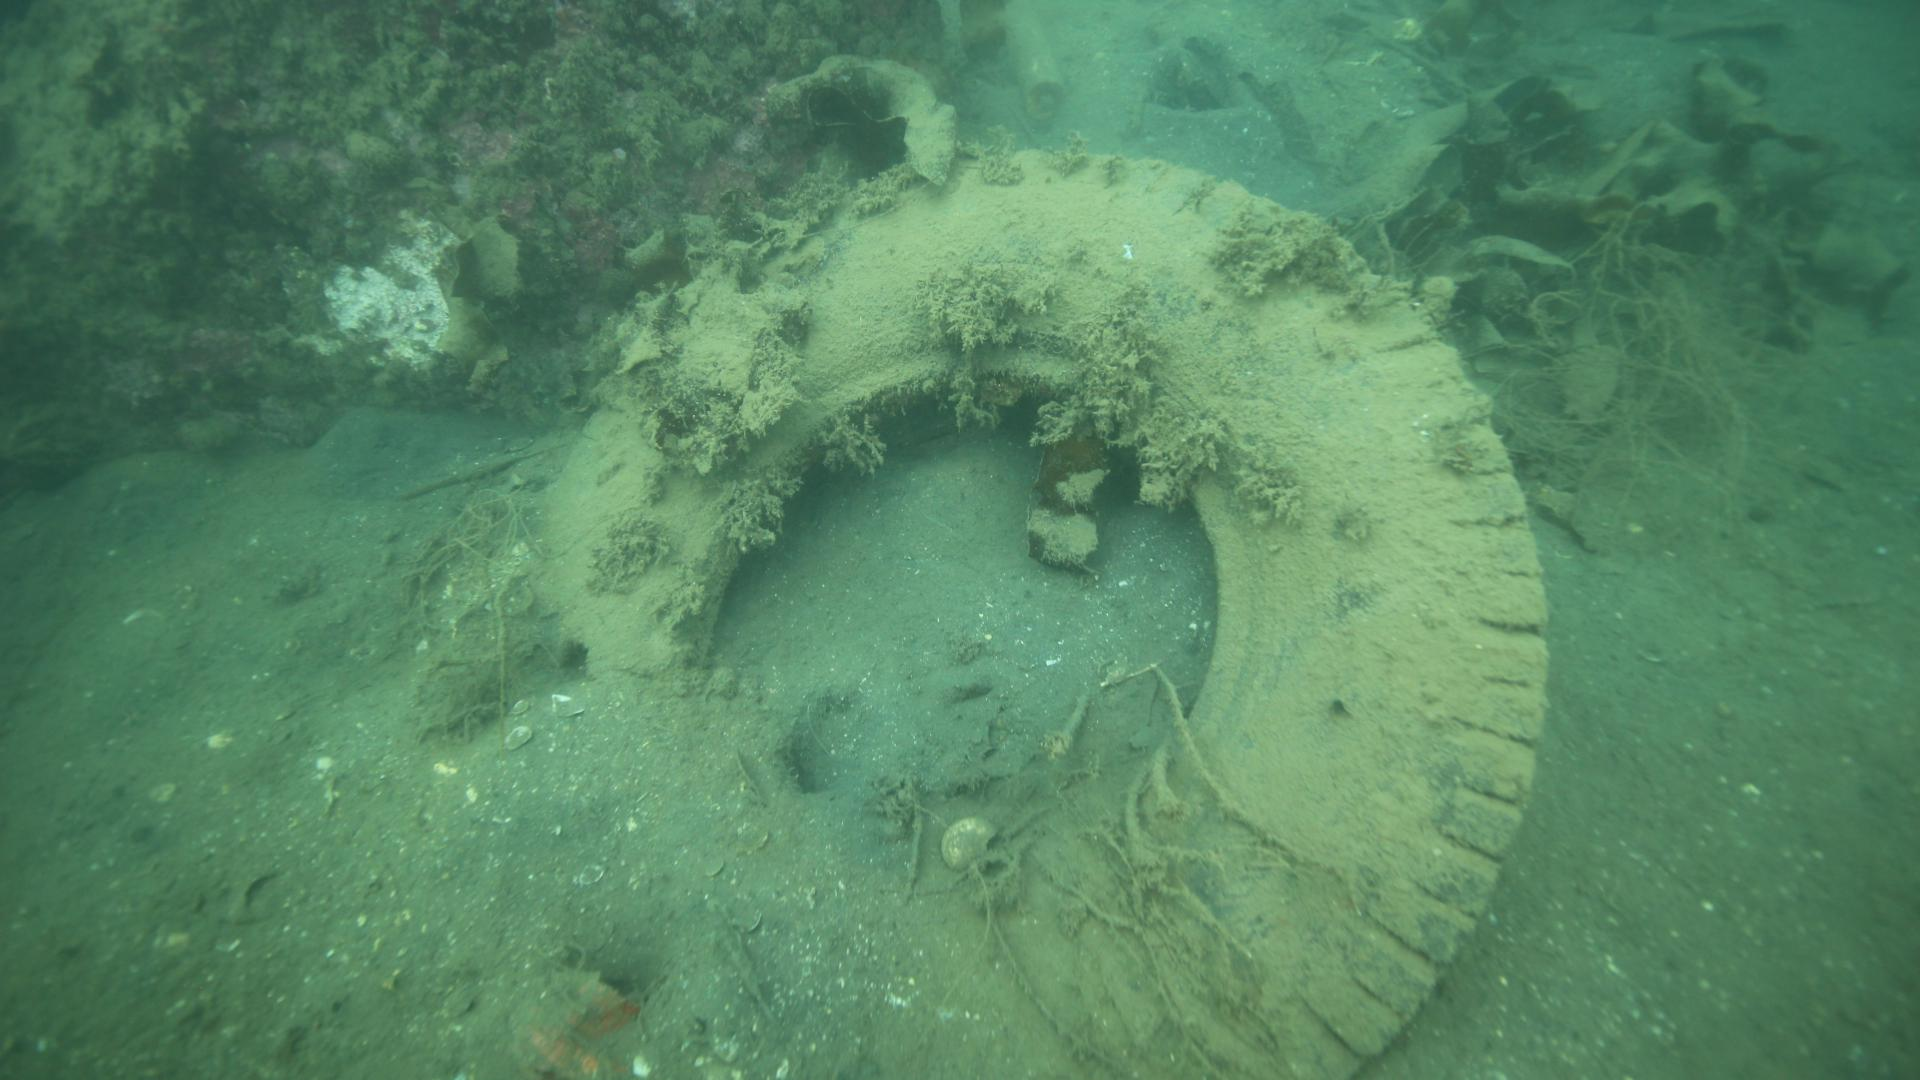tire: (498, 142, 1557, 1080)
